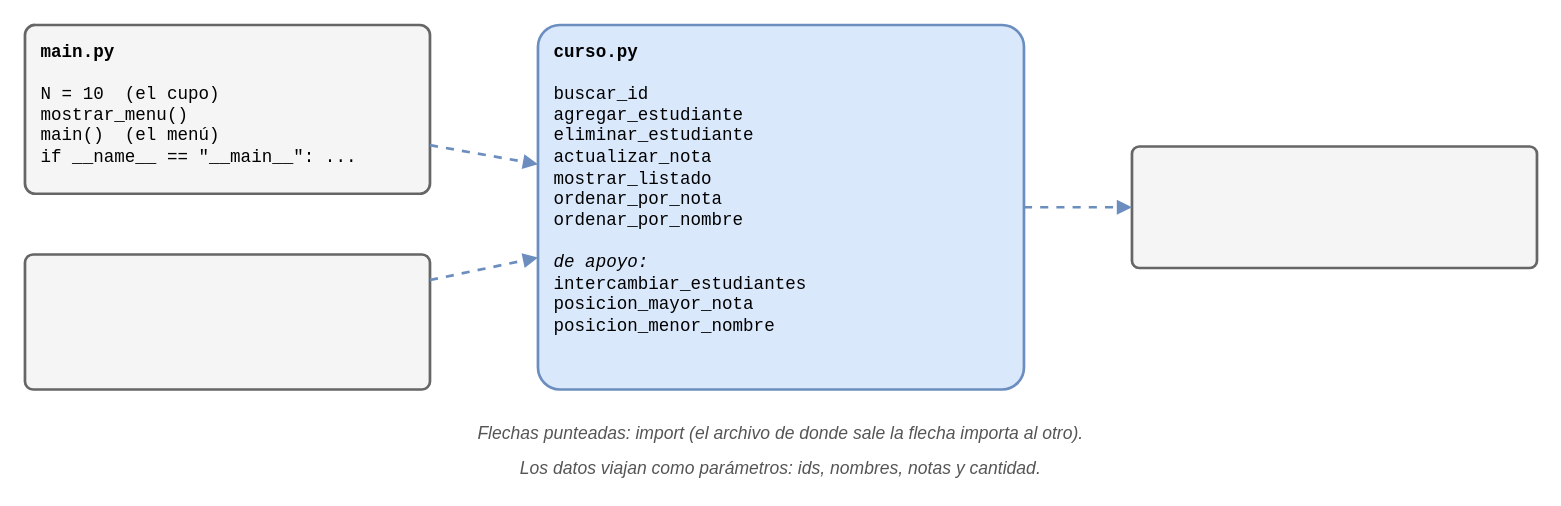
Image size: 1561x506. Some labels were removed from this diagram. The shapes that lost their labels are listed below. From the top down, each one's centre as x and y in pixels, then its label:
(x=1334, y=206): ordenamientos.py intercambiar ← la que usa curso.py posicion_menor, ordenar_…
(x=227, y=321): test_curso.py assert … print("Pruebas de curso: …")
